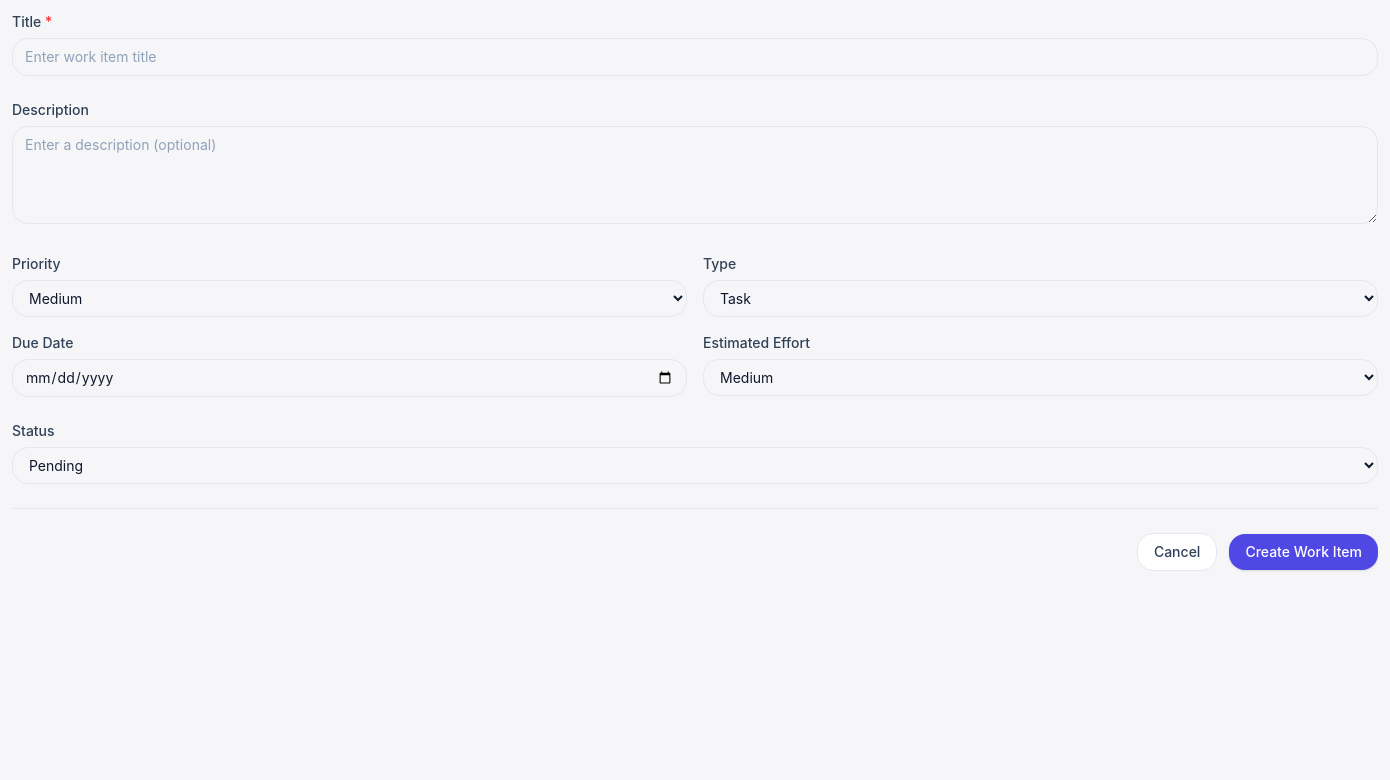
WorkItemForm › shows validation error when title is empty on submit
This screenshot has width=1390, height=780.
Click the button "Create Work Item" at [1304, 552], box [1229,534,1378,570]
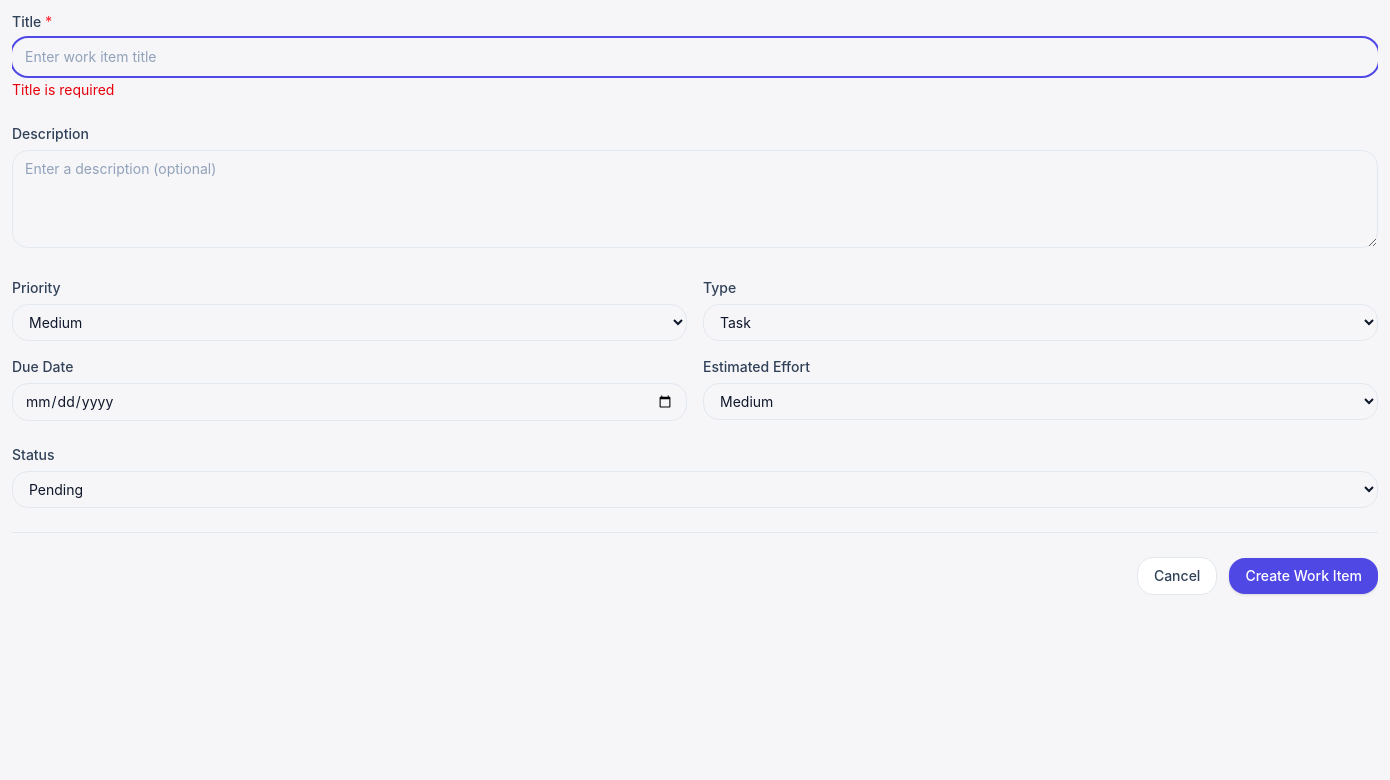
expect the text "Title is required" is shown: met, box [12,81,114,98]
